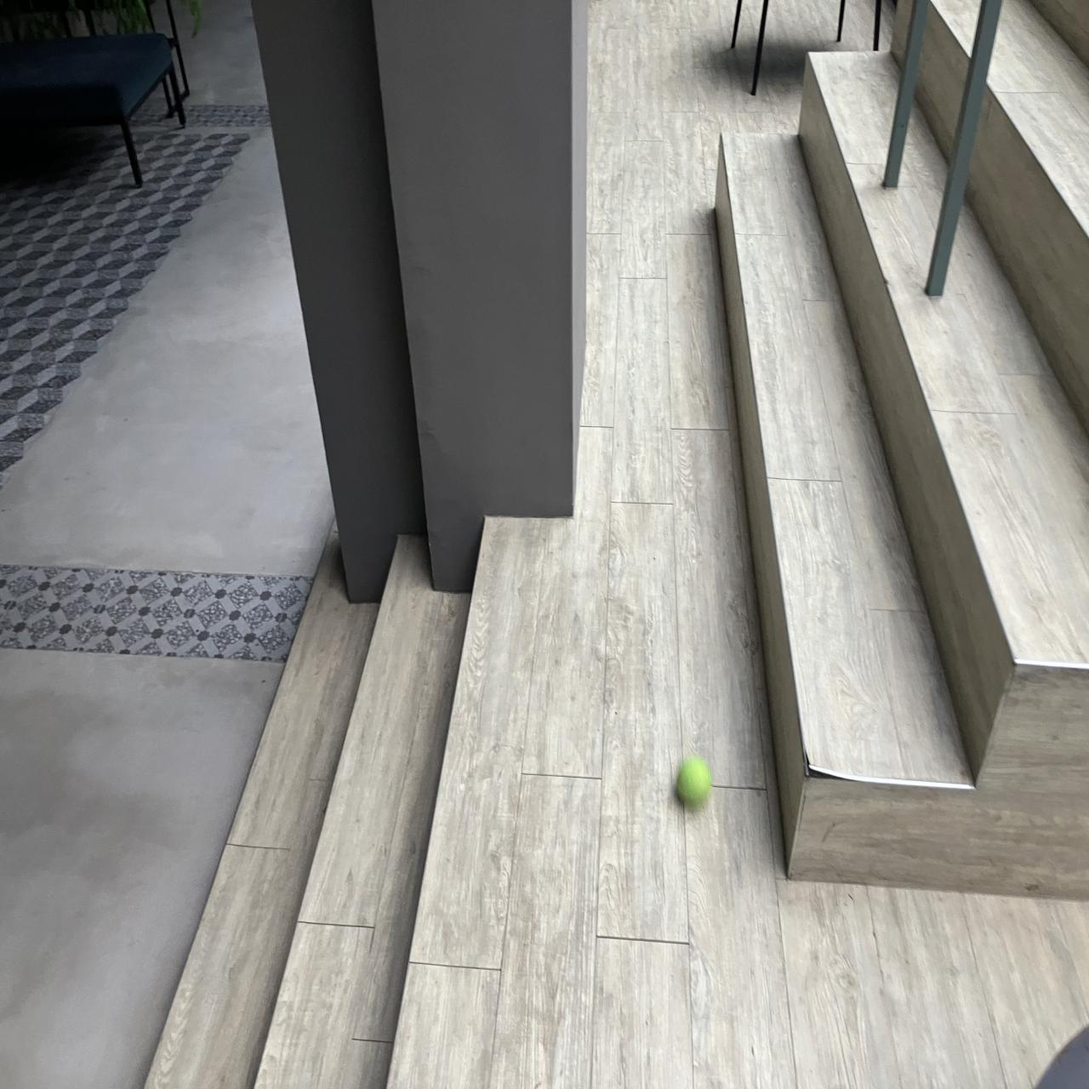tennisball: (676, 756, 711, 807)
